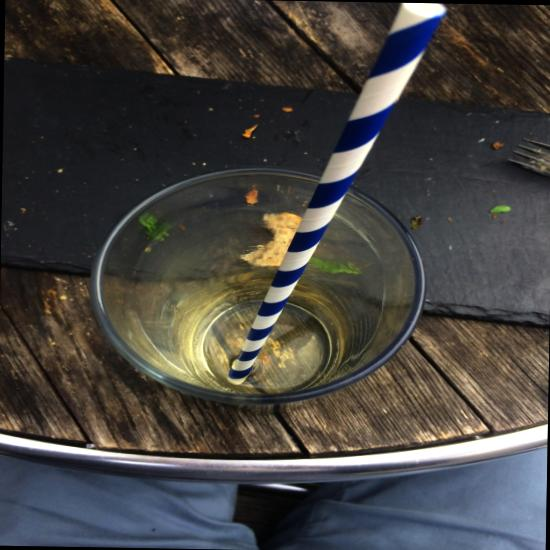Glass cup: (89, 166, 425, 405)
Paper straw: (227, 2, 445, 384)
